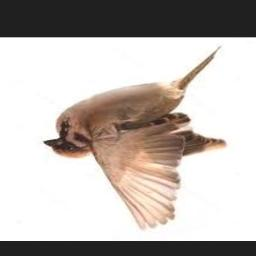Sparrow: (44, 46, 226, 231)
